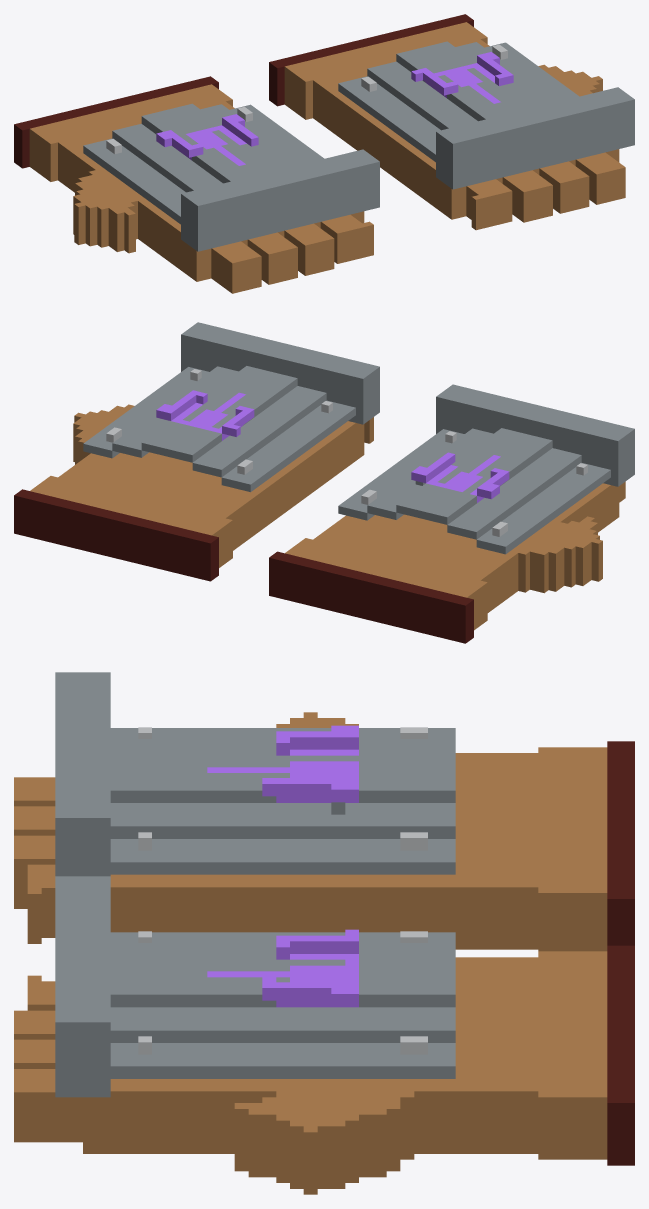
File: flaming_fist.glb
The picture shows the model from 3 angles, top to bottom: view 1: azimuth 30°, elevation 25°; view 2: azimuth 150°, elevation 25°; view 3: azimuth 270°, elevation 25°; orthographic projection. The views are drawn at different scales.
Visible parts, largest first — view 1: flaming_fist:compound; view 2: flaming_fist:compound; view 3: flaming_fist:compound.
Part boxes in pixels (left/top/right/bottom): flaming_fist:compound: left=14, top=14, right=634, bottom=293; flaming_fist:compound: left=14, top=322, right=634, bottom=643; flaming_fist:compound: left=14, top=672, right=634, bottom=1194.
Bounding box in the file's own units: 0.288 × 0.044 × 0.18.
